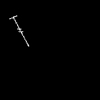treble_crochet: (10, 17, 28, 45)
